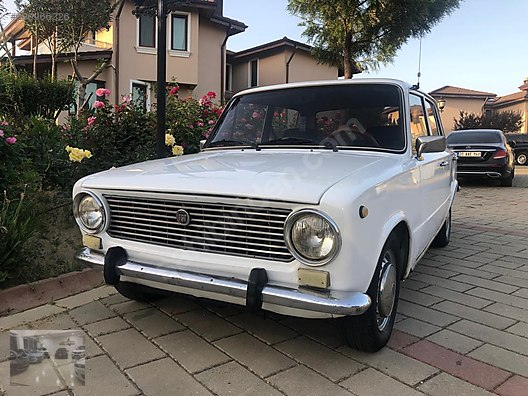murat: (66, 68, 462, 351)
